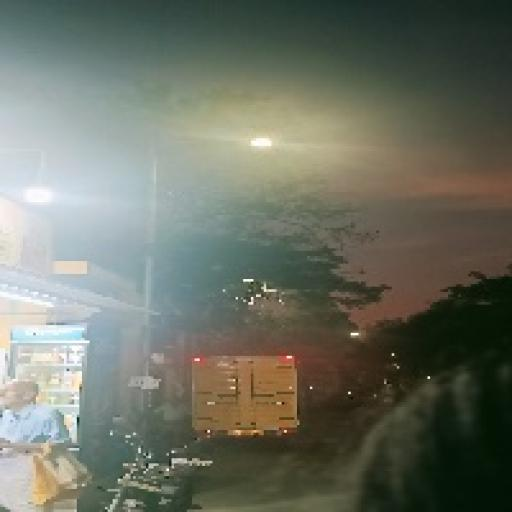Working: (242, 132, 279, 153)
